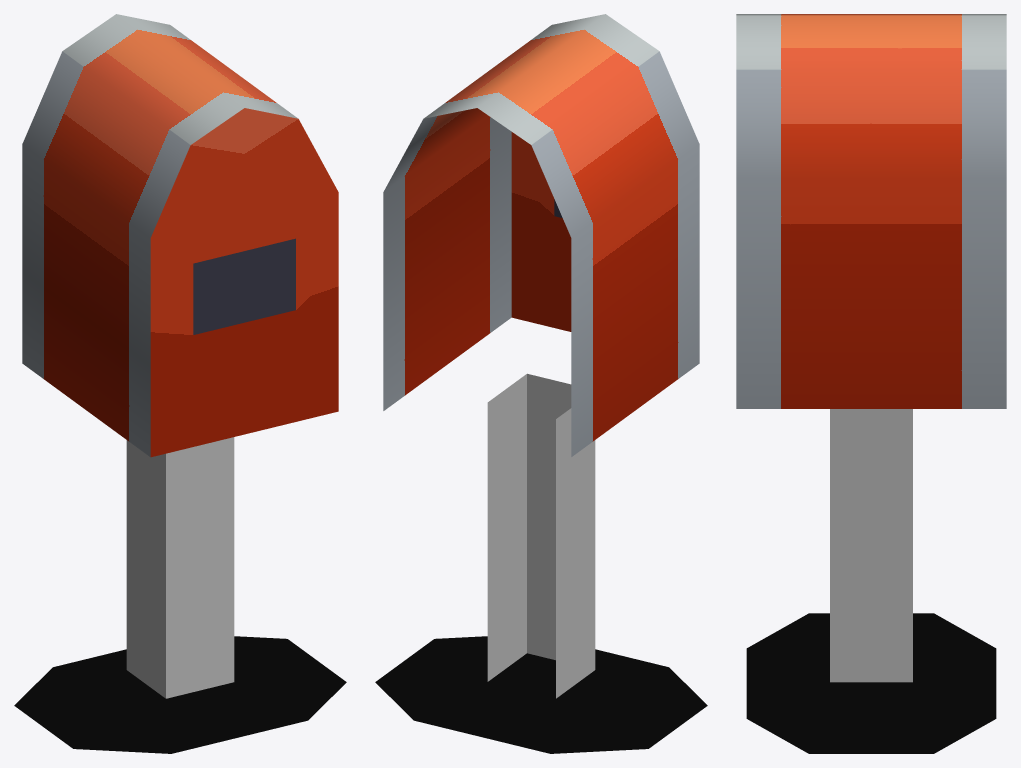
File: mailbox.fbx
3 renders of one model, left to right at view 1: azimuth 30°, elevation 25°; view 2: azimuth 150°, elevation 25°; view 3: azimuth 270°, elevation 25°, orthographic. The views are drawn at different scales.
Parts seen in each view (by area): view 1: polygon0.001, polygon1.001, polygon2.001; view 2: polygon0.001, polygon1.001, polygon2.001; view 3: polygon0.001, polygon2.001, polygon1.001.
Part boxes in pixels (x1,y1,x2,y2): polygon0.001: [22, 14, 338, 457]; polygon1.001: [126, 437, 234, 698]; polygon2.001: [14, 636, 346, 753]; polygon0.001: [383, 14, 699, 456]; polygon1.001: [487, 373, 595, 698]; polygon2.001: [375, 636, 707, 753]; polygon0.001: [736, 14, 1006, 408]; polygon2.001: [746, 613, 996, 753]; polygon1.001: [830, 409, 912, 682].
Size of the model in its own units: 200 by 442 by 163.
